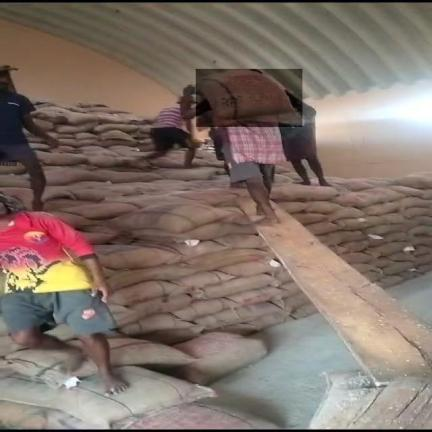Zone-Counting: (181, 69, 299, 221)
